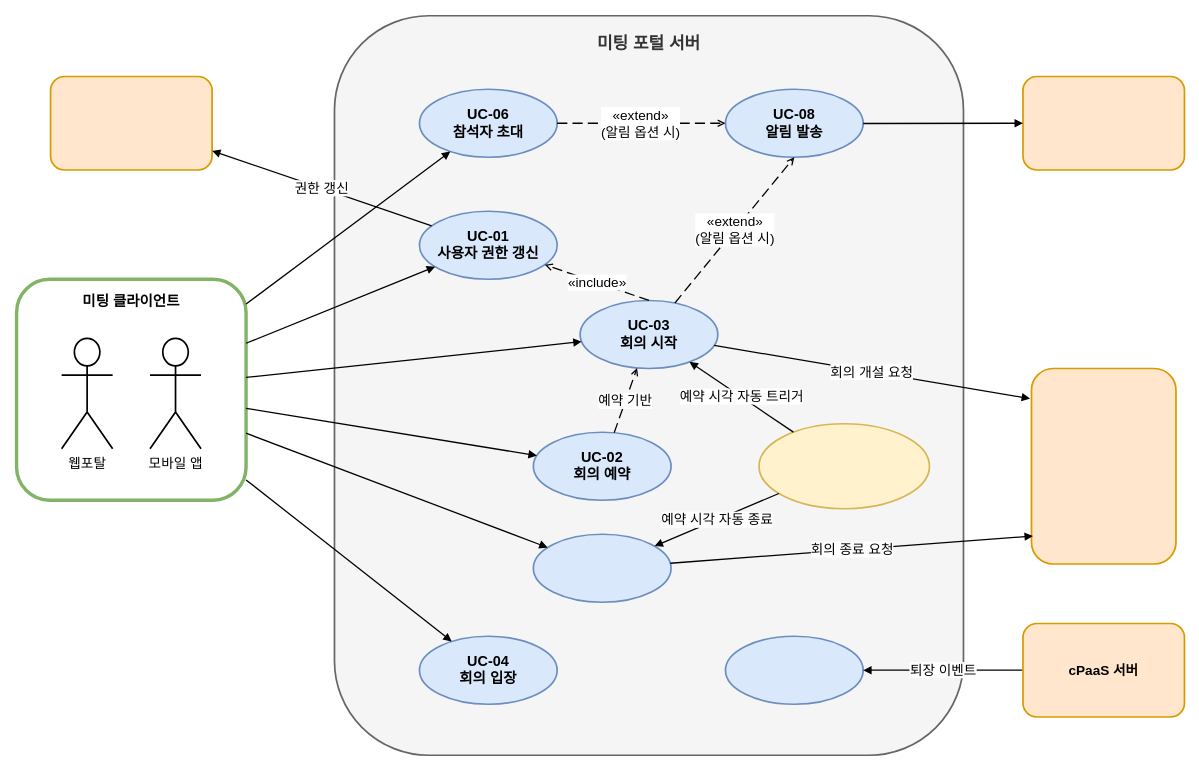
This 1199x770 diagram has some shape labels left out. Here are the shapes that lost their labels. From the top down, the centre of each, then its label:
the point at 130,122: 권한 서버 AC / Copilot Admin
the point at 1103,122: IN서버·메일·push
the point at 844,465: 배치 시스템 (내부 스케쥴러)
the point at 1103,465: 회의 서버 WC / VC / AC
the point at 602,568: UC-07 회의 종료
the point at 794,670: UC-05 회의 퇴장
